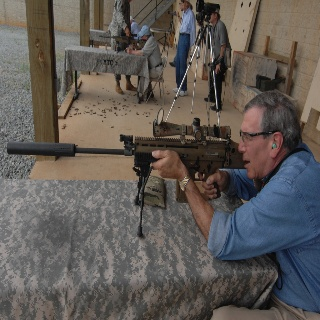rifle: (5, 108, 250, 201), (100, 31, 146, 50)
